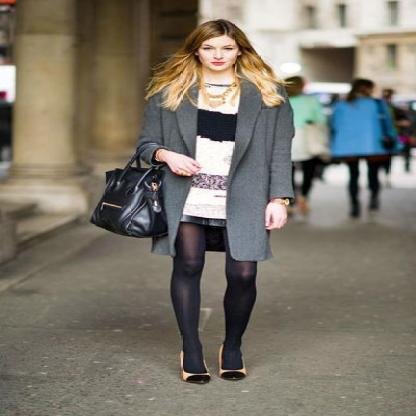bag: (91, 147, 186, 241)
dress: (182, 92, 238, 237)
jacket: (130, 71, 311, 262)
shoe: (181, 358, 244, 383)
